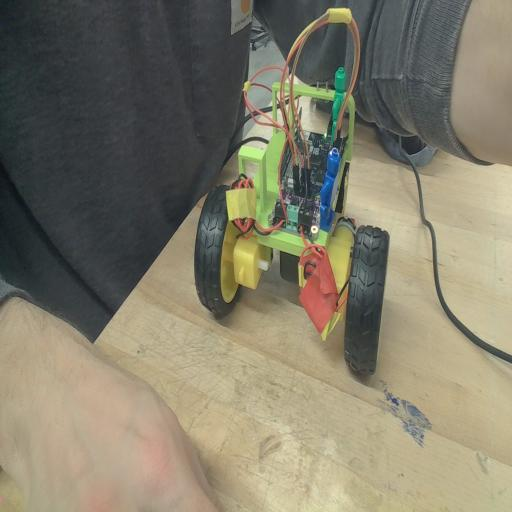blue LEGO minifig: (317, 147, 341, 233)
green LEGO minifig: (330, 65, 348, 141)
